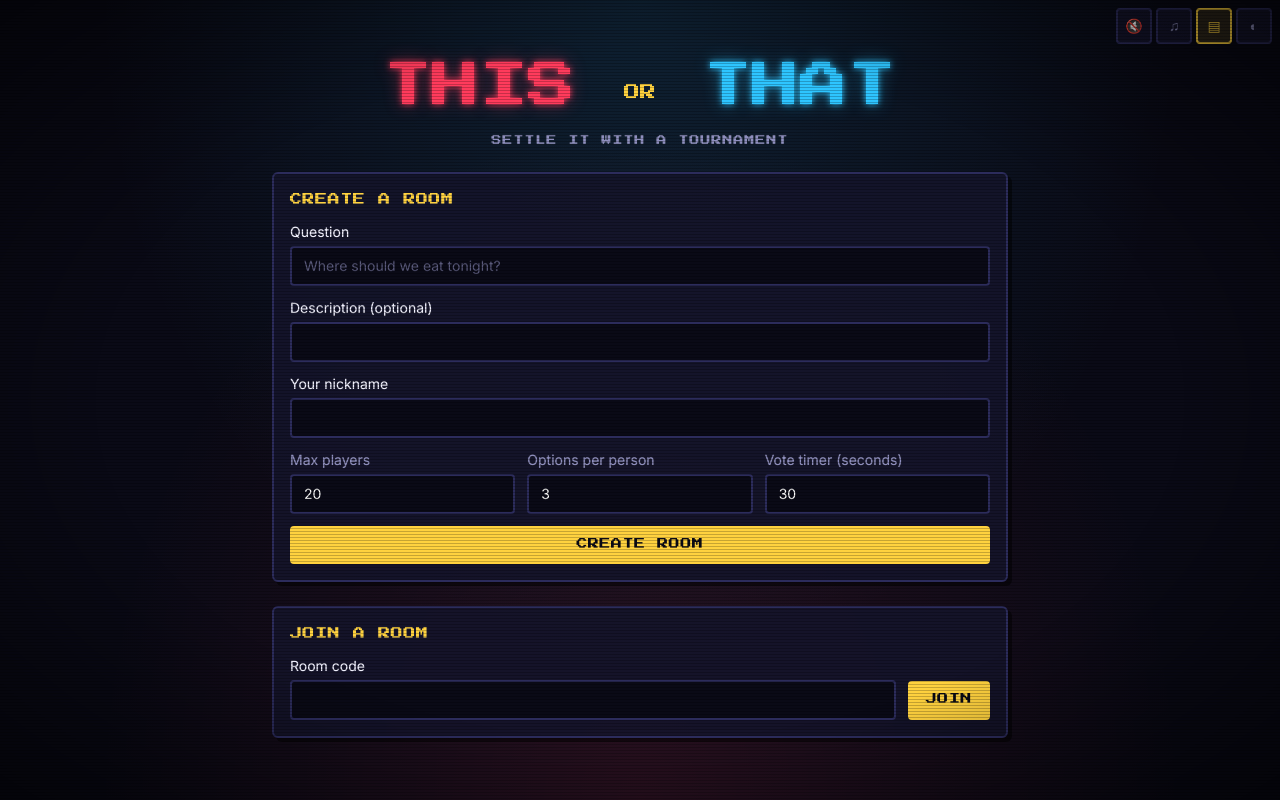
Scenario: Landing page › goes to a room by code
The width and height of the screenshot is (1280, 800).
Type "abc234" into the field labelled "Room code". click: (593, 700)
box: left=290, top=680, right=896, bottom=720
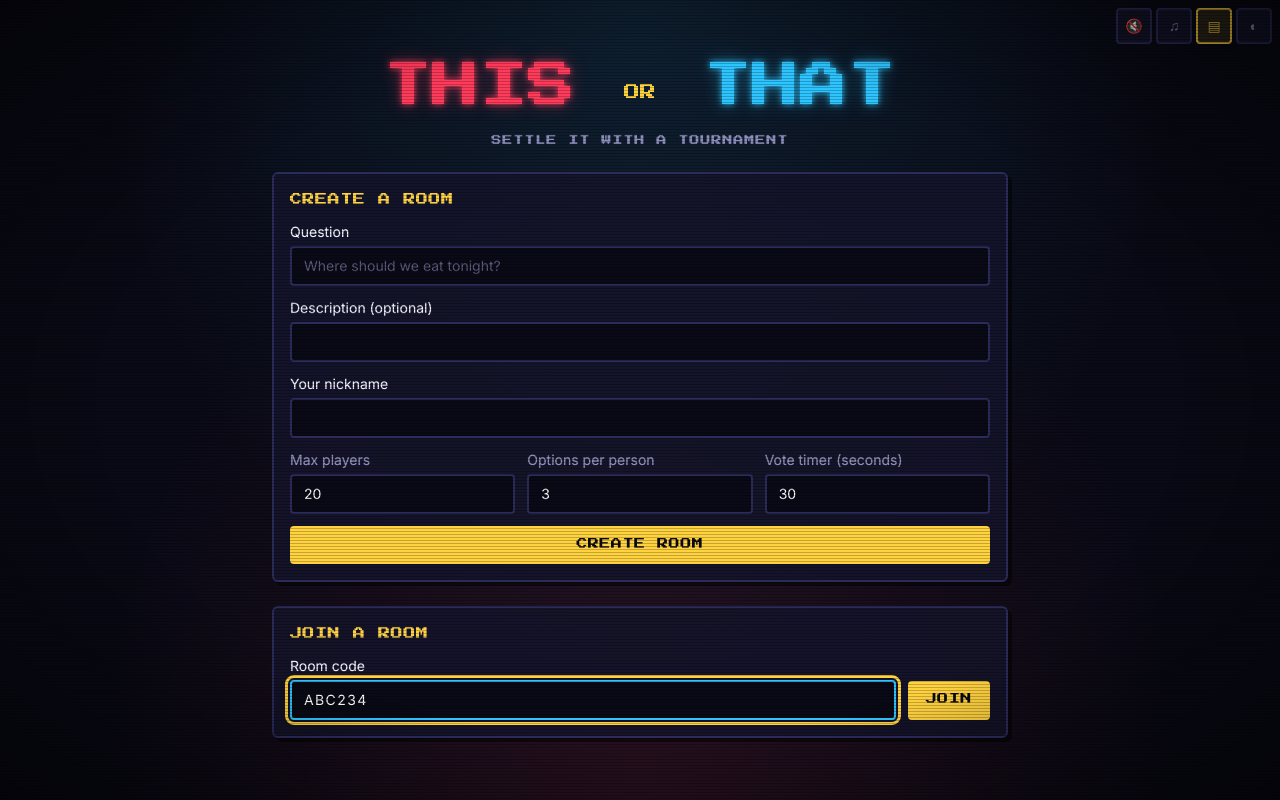
Click the button "Join". click: (949, 701)
box: left=908, top=681, right=990, bottom=720
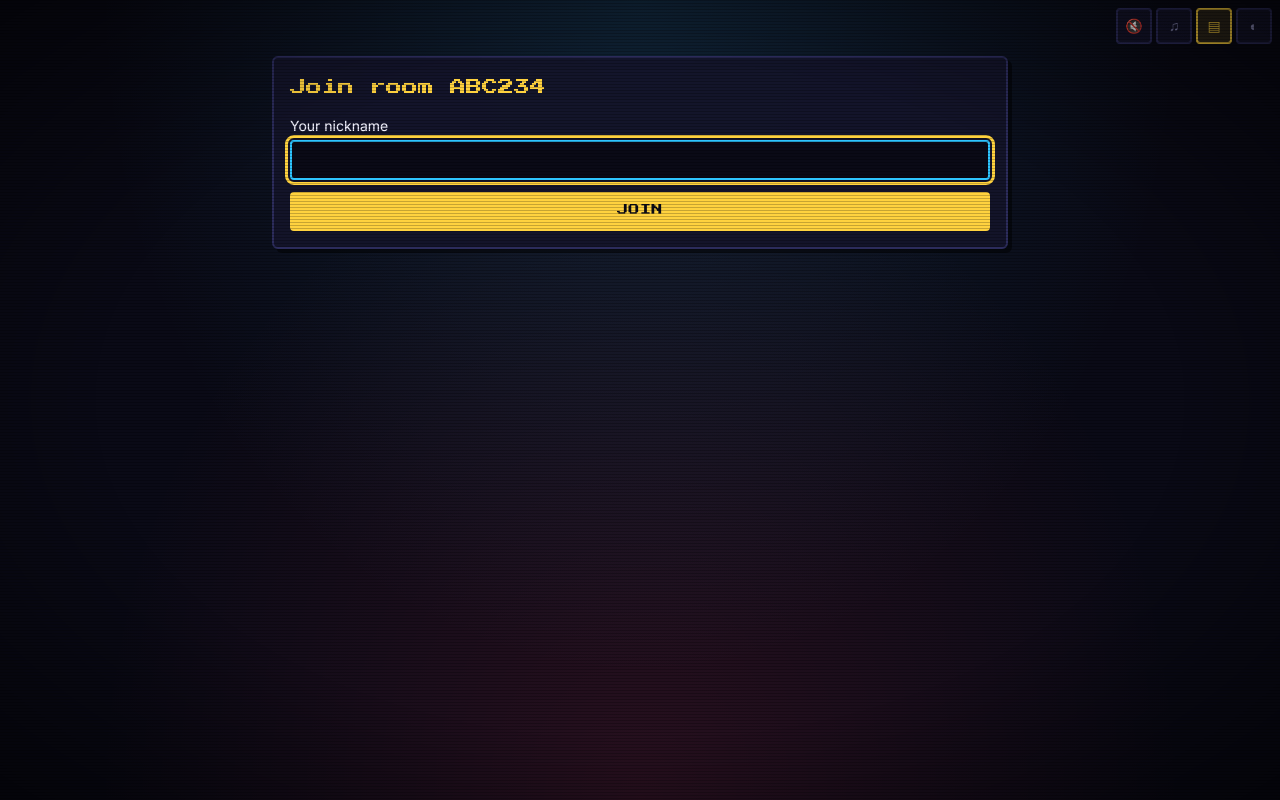
Check: the heading "Join room ABC234" is shown, box left=290, top=79, right=546, bottom=95
